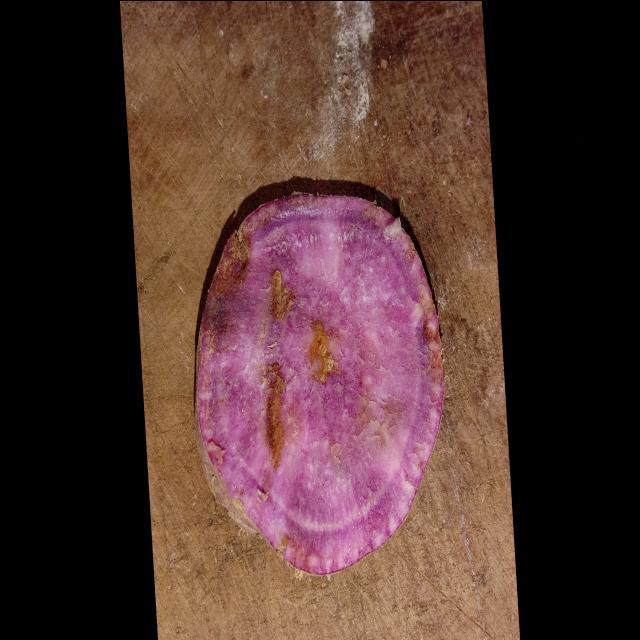Sick Sweet Potato_Tuber Rot: (196, 193, 444, 573)
